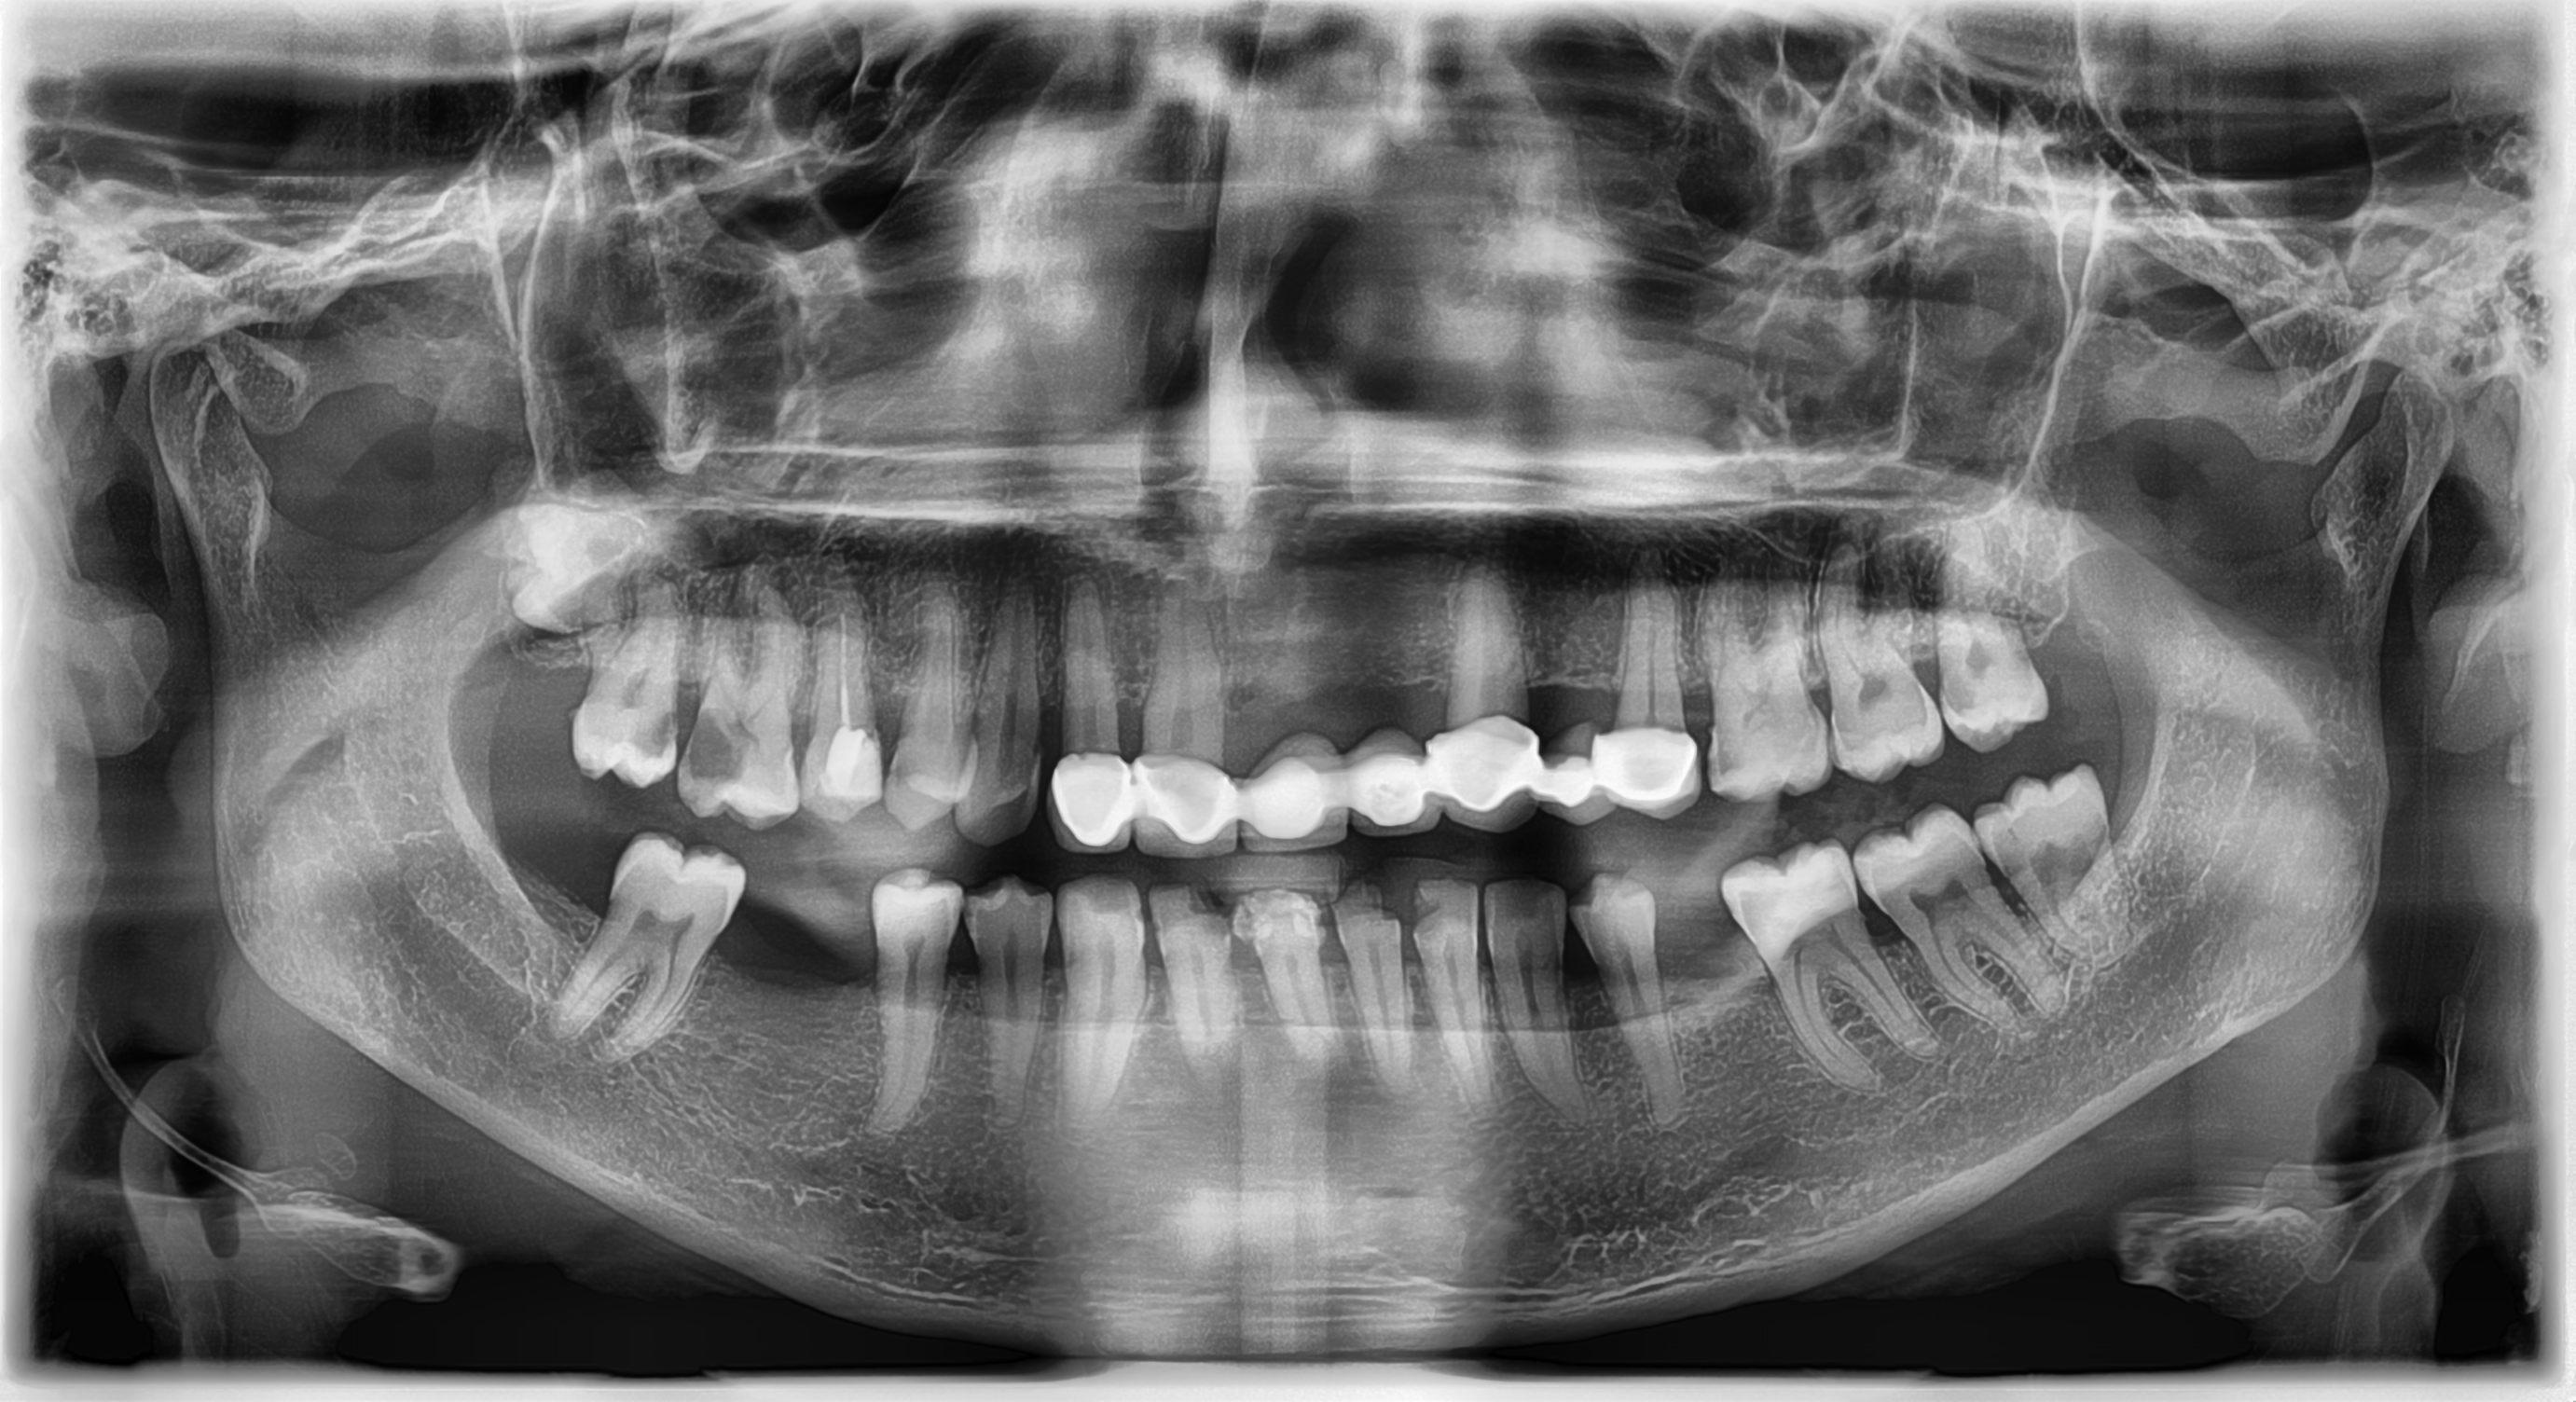cordal: (463, 430, 670, 684), (1896, 513, 2103, 767), (1960, 732, 2165, 986)
fractura: (1141, 855, 1262, 1026), (1397, 849, 1518, 1020), (1300, 844, 1419, 1015)
zona_dentula: (675, 841, 913, 1065), (1647, 863, 1811, 1091)
